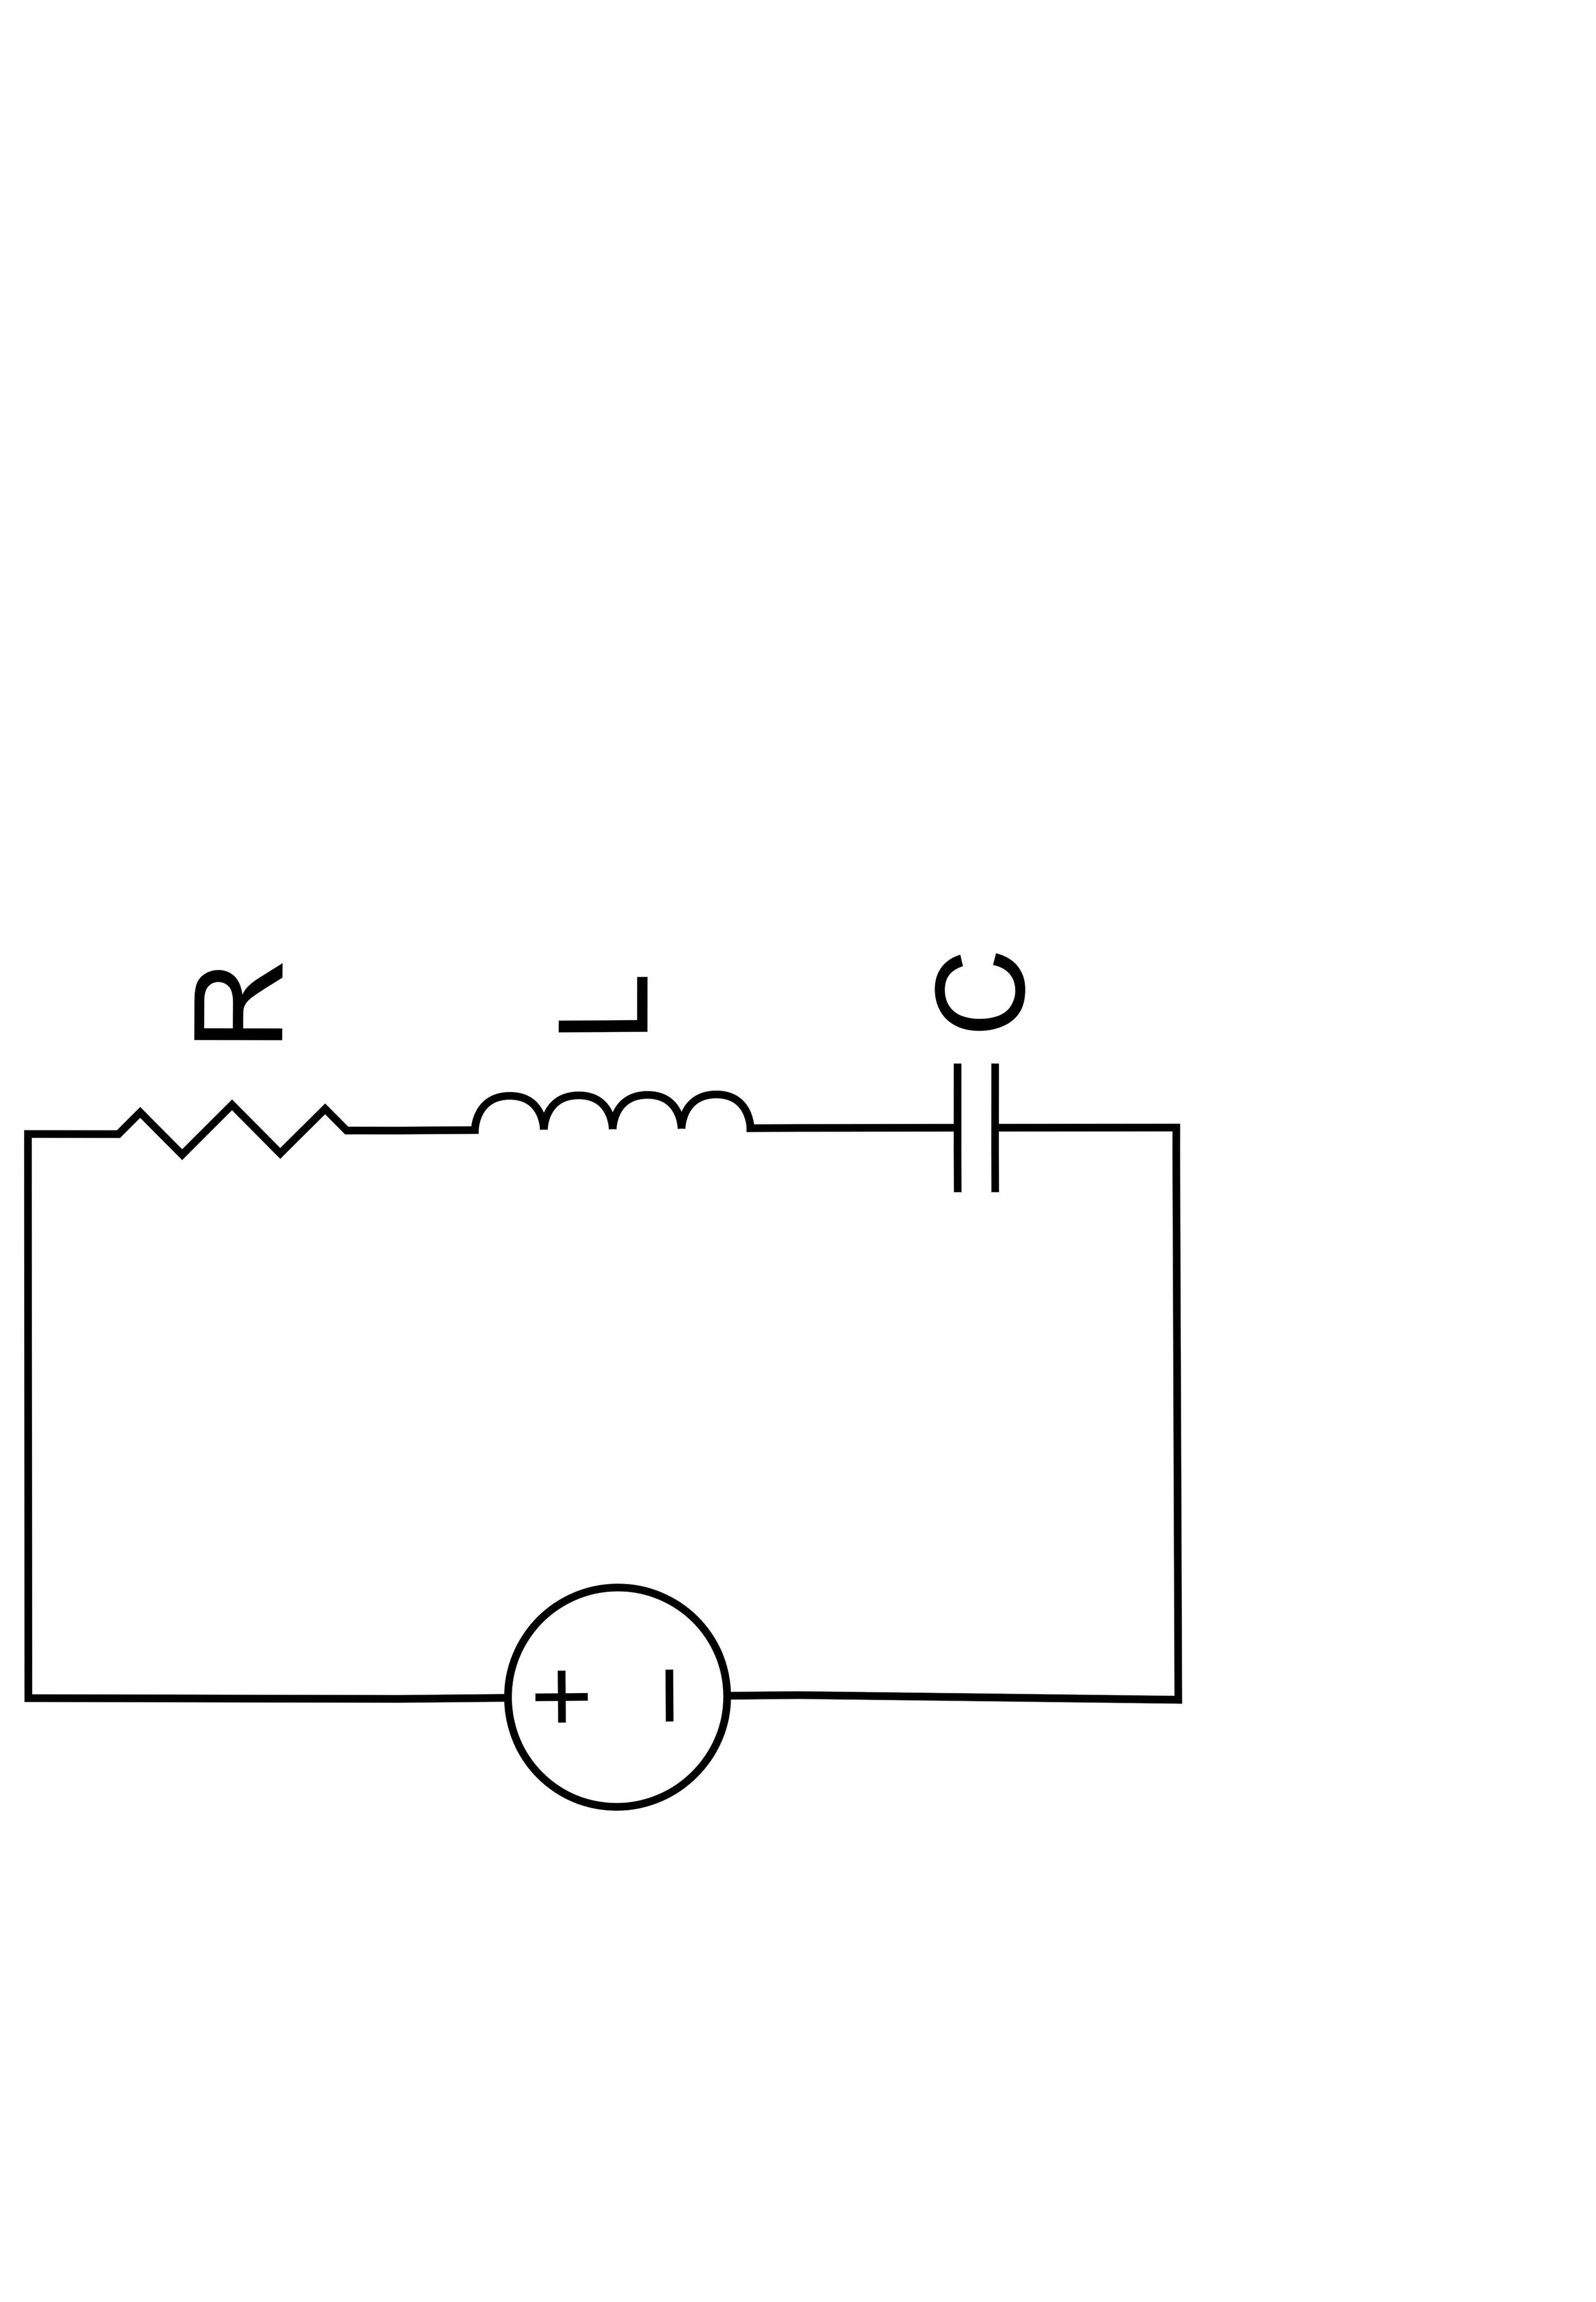Battery: (392, 1541, 759, 1870)
